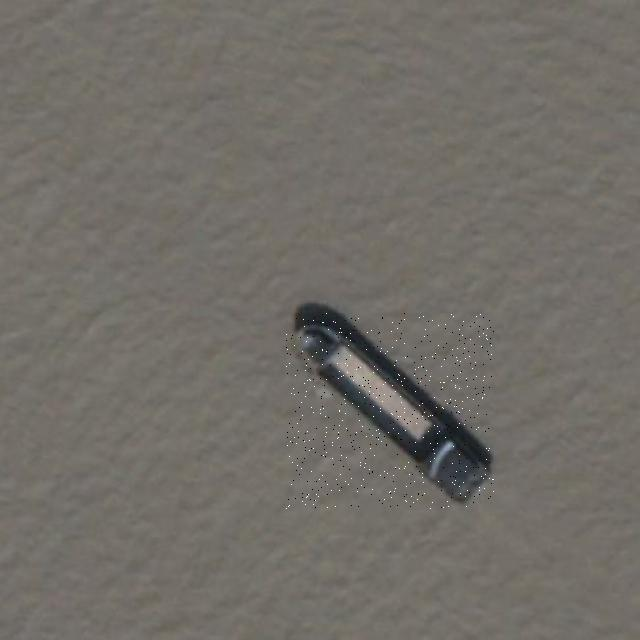boat: (286, 314, 494, 510)
